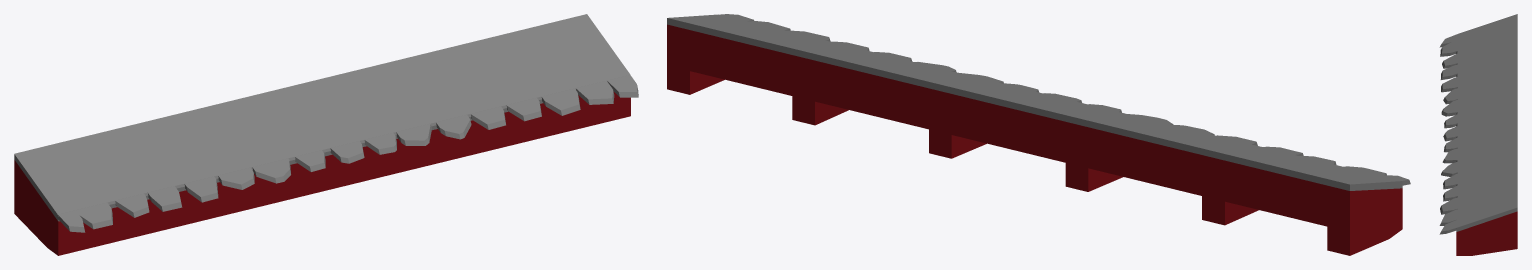
Rendered from SM_MH_01_Slate_Porch_Roof_End_01.fbx.
3 renders of one model, left to right at view 1: azimuth 30°, elevation 25°; view 2: azimuth 150°, elevation 25°; view 3: azimuth 270°, elevation 25°, orthographic. The views are drawn at different scales.
Parts seen in each view (by area): view 1: SM_MH_01_Slate_Porch_Roof_End_01_LOD0; view 2: SM_MH_01_Slate_Porch_Roof_End_01_LOD0; view 3: SM_MH_01_Slate_Porch_Roof_End_01_LOD0.
Boxes of the visible parts, x1,y1,x2,y2 form: SM_MH_01_Slate_Porch_Roof_End_01_LOD0: [14, 14, 638, 255]; SM_MH_01_Slate_Porch_Roof_End_01_LOD0: [667, 14, 1410, 255]; SM_MH_01_Slate_Porch_Roof_End_01_LOD0: [1439, 14, 1517, 255].
Size of what is drawn, in the model's own units: 300 by 35 by 51.16.
